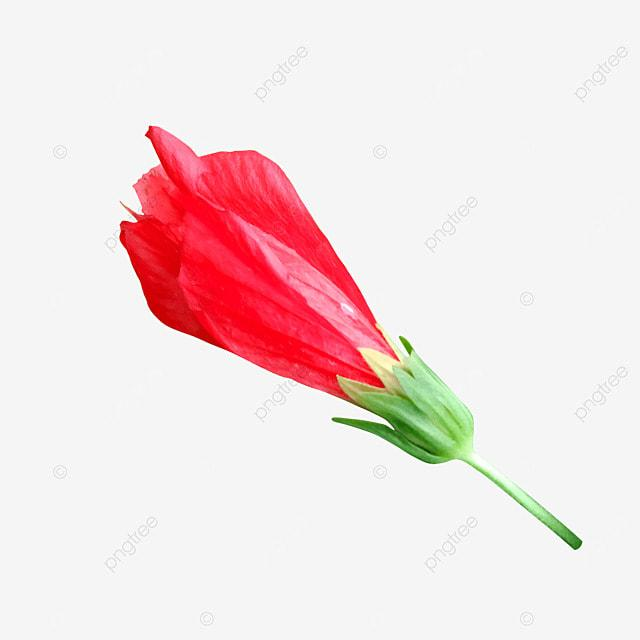Flower: (112, 114, 479, 474)
